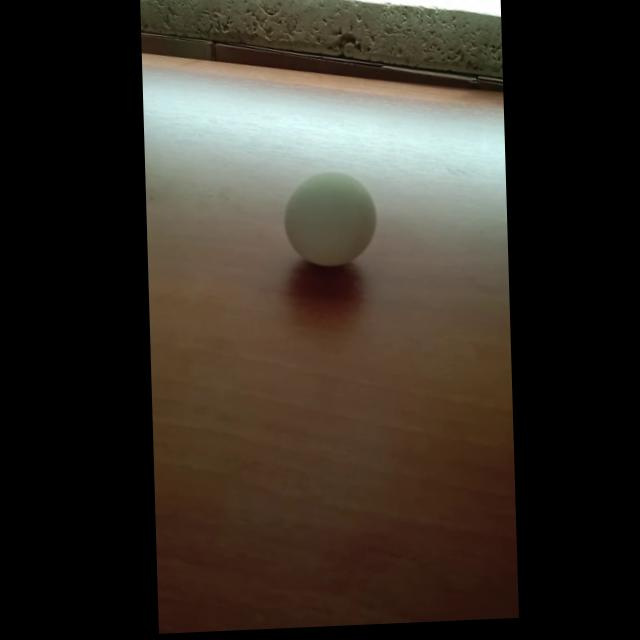white ball: (281, 169, 378, 269)
